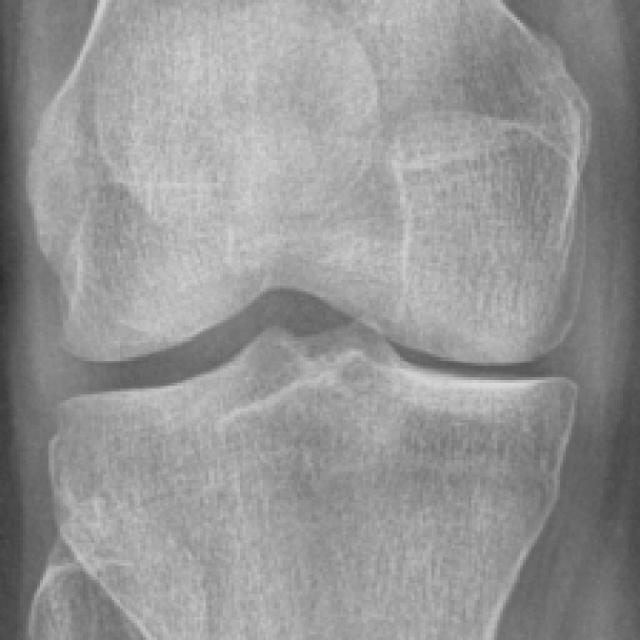femur: (33, 1, 589, 360)
tibia: (54, 326, 571, 640)
